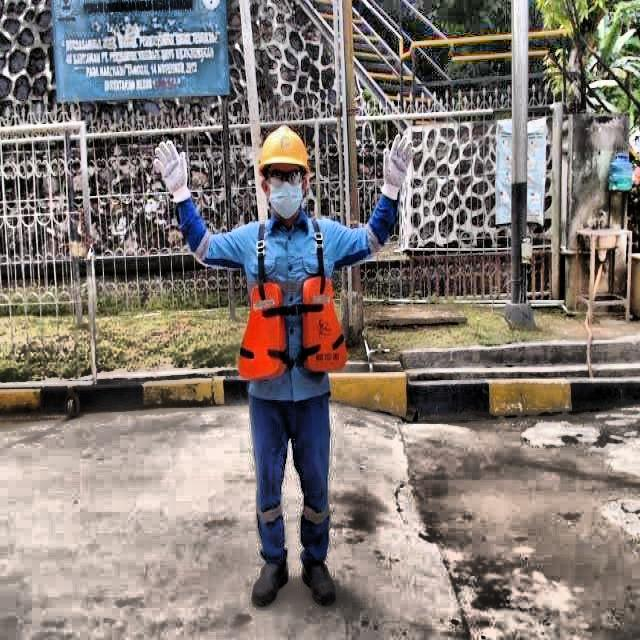safety_helmet: (257, 126, 310, 175)
safety_jacket: (240, 279, 347, 379)
